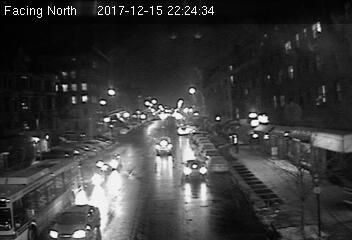bus: (1, 158, 86, 240)
car: (48, 205, 100, 240), (182, 160, 207, 178), (97, 152, 120, 170), (153, 137, 173, 153), (207, 157, 229, 171), (175, 125, 189, 136)
